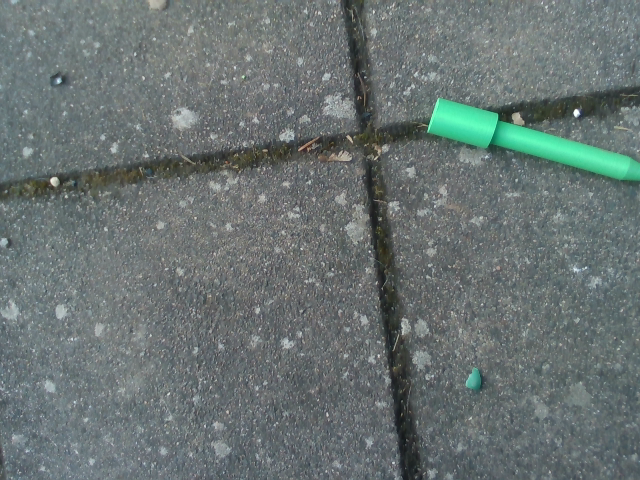Probe: (421, 93, 640, 192)
